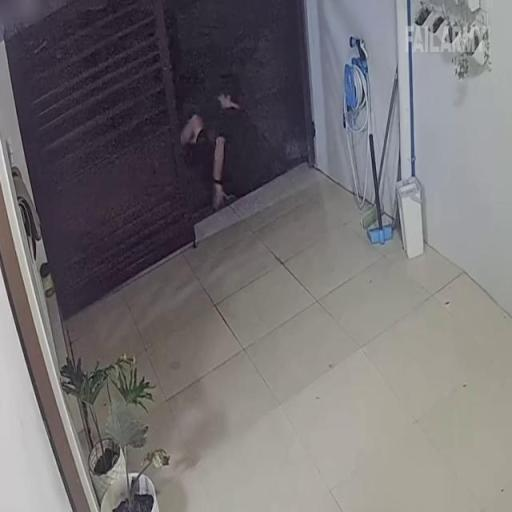Fall: (179, 70, 258, 211)
